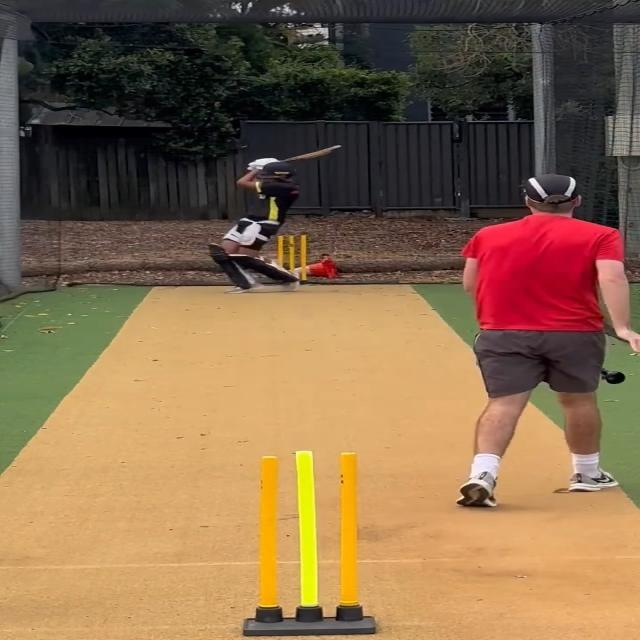stump: (238, 446, 380, 640), (275, 233, 310, 282)
